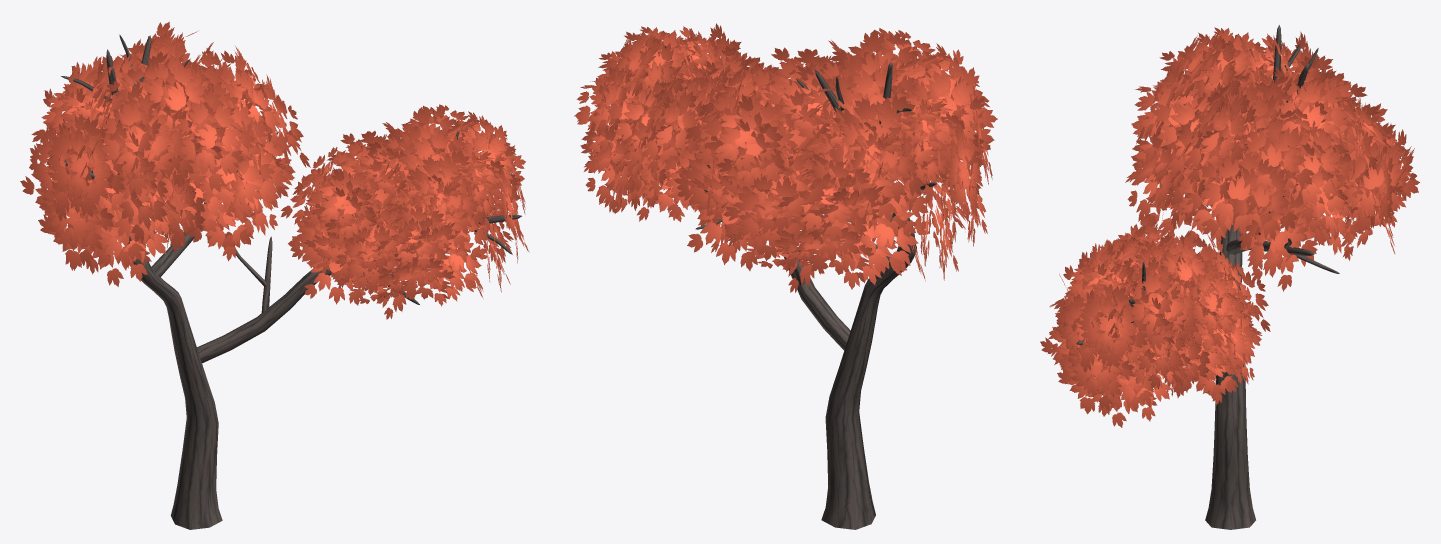
File: MapleTree_1.glb
3 views of the same model, side by side, from view 1: azimuth 30°, elevation 25°; view 2: azimuth 150°, elevation 25°; view 3: azimuth 270°, elevation 25° (orthographic). The views are drawn at different scales.
Bounding box in the file's own units: 6.23 × 6.64 × 4.9.
Materials: 2 (2 with a texture image).
